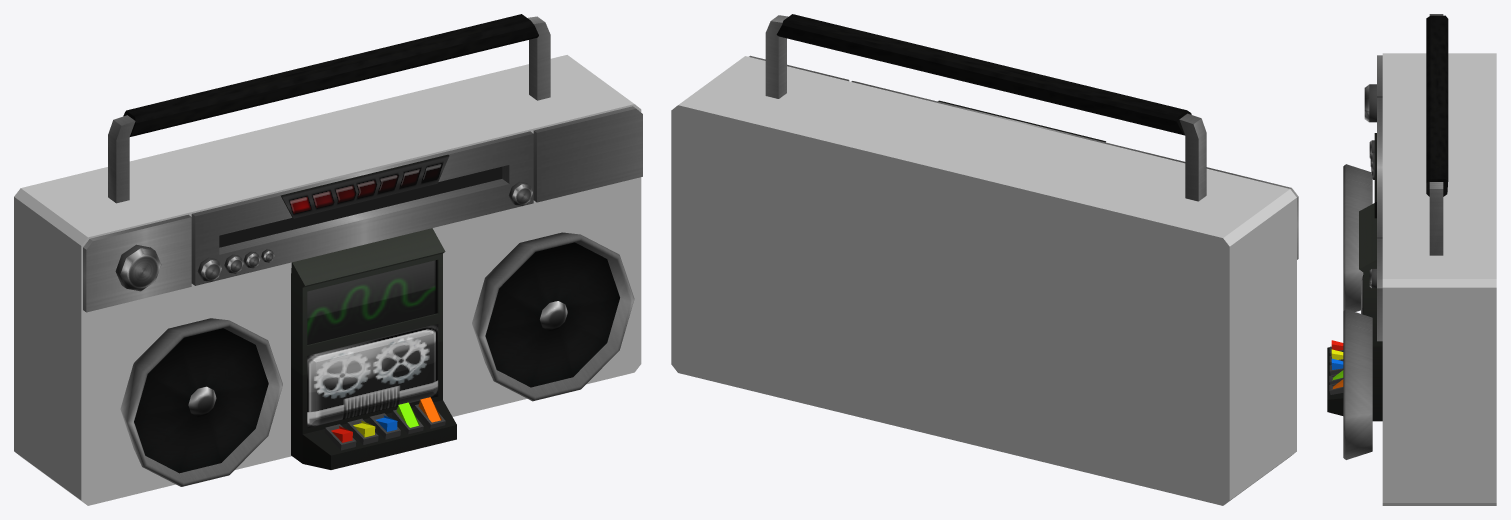
Rendered from Boombox_B.FBX.
3 views of the same model, side by side, from view 1: azimuth 30°, elevation 25°; view 2: azimuth 150°, elevation 25°; view 3: azimuth 270°, elevation 25° (orthographic). The views are drawn at different scales.
Visible parts, largest first — view 1: Boombox; view 2: Boombox; view 3: Boombox.
Part boxes in pixels (x1,y1,x2,y2): Boombox: (14,14,642,505); Boombox: (671,14,1298,505); Boombox: (1327,14,1496,505).
Size of the model in its own units: 120 by 71.63 by 37.15.
